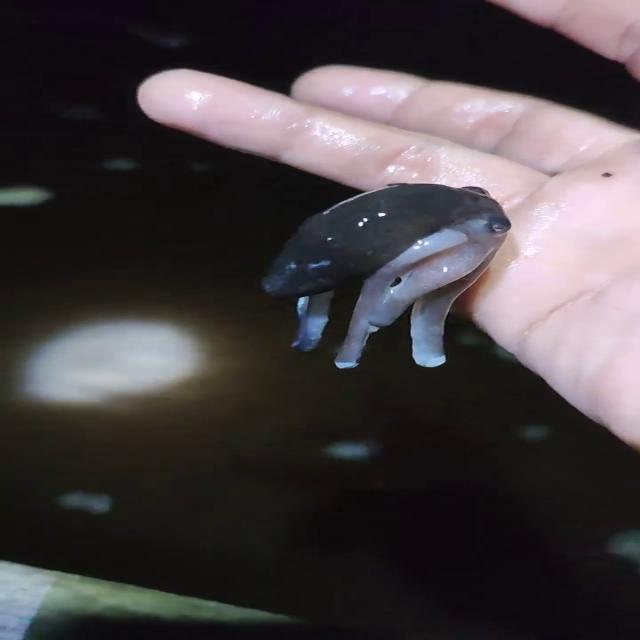octopus: (229, 168, 536, 384)
